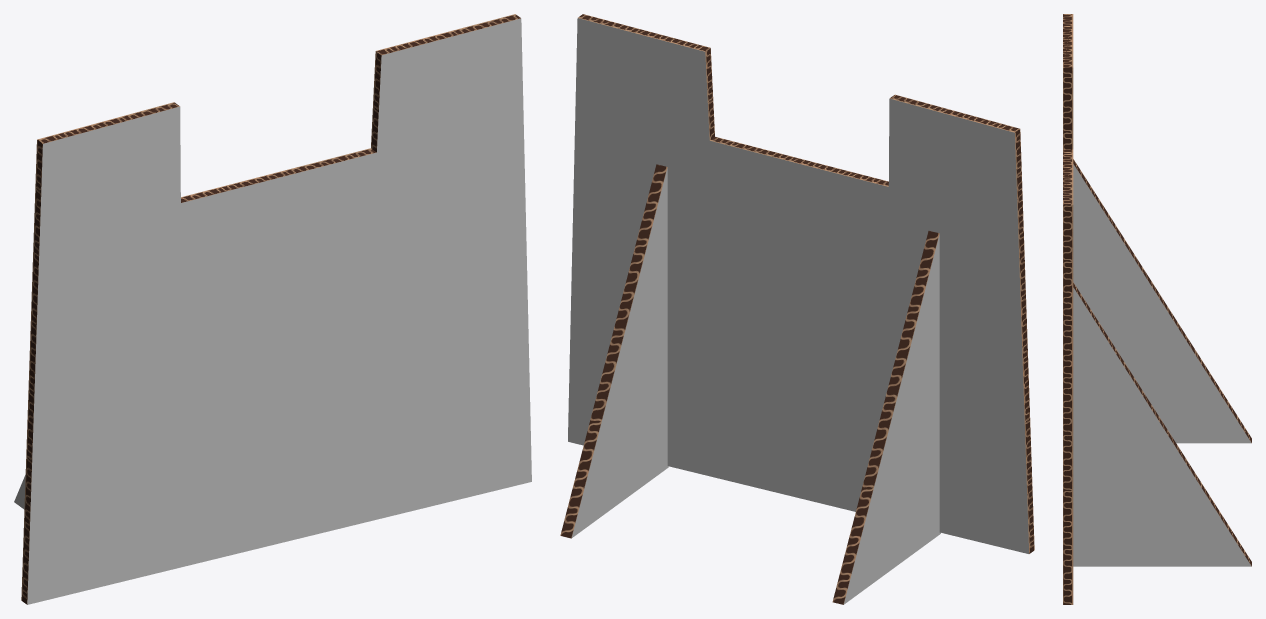
The model's file is Post.fbx.
3 renders of one model, left to right at view 1: azimuth 30°, elevation 25°; view 2: azimuth 150°, elevation 25°; view 3: azimuth 270°, elevation 25°, orthographic. The views are drawn at different scales.
Visible parts, largest first — view 1: Post_LOD0; view 2: Post_LOD0; view 3: Post_LOD0.
Part boxes in pixels (bbox=[...]): Post_LOD0: bbox=[14, 14, 531, 604]; Post_LOD0: bbox=[560, 14, 1034, 604]; Post_LOD0: bbox=[1063, 14, 1251, 604].
Bounding box in the file's own units: 1108 × 983 × 423.
